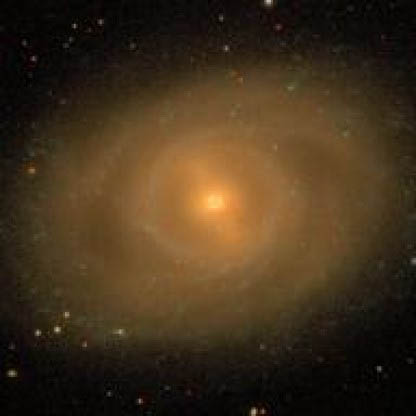Messier 95: (15, 41, 414, 364)
